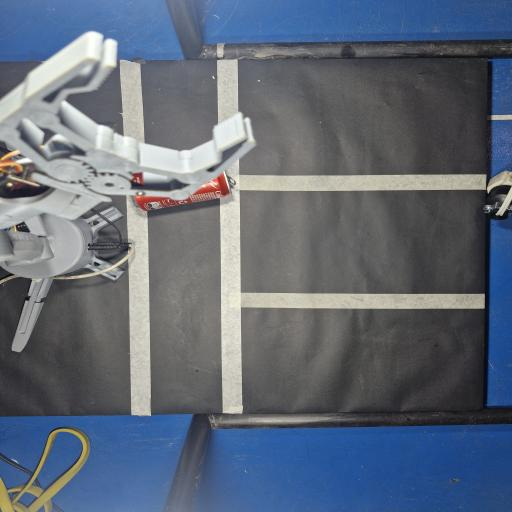lata: (132, 172, 236, 211), (131, 172, 165, 189)
